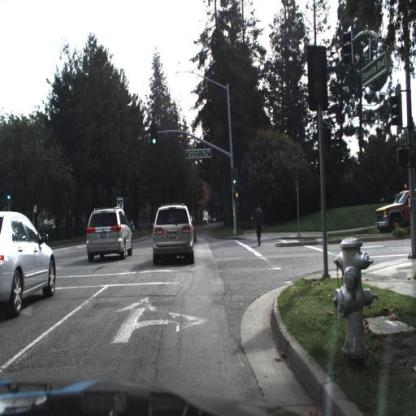car: (1, 210, 63, 321), (82, 204, 138, 268), (152, 204, 196, 272), (373, 185, 416, 240), (373, 187, 416, 235)
pedestrian: (255, 198, 269, 252)
trafficLight-Green: (232, 169, 241, 195), (152, 127, 160, 156), (152, 127, 159, 148)
